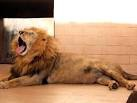lion: (8, 28, 137, 91)
